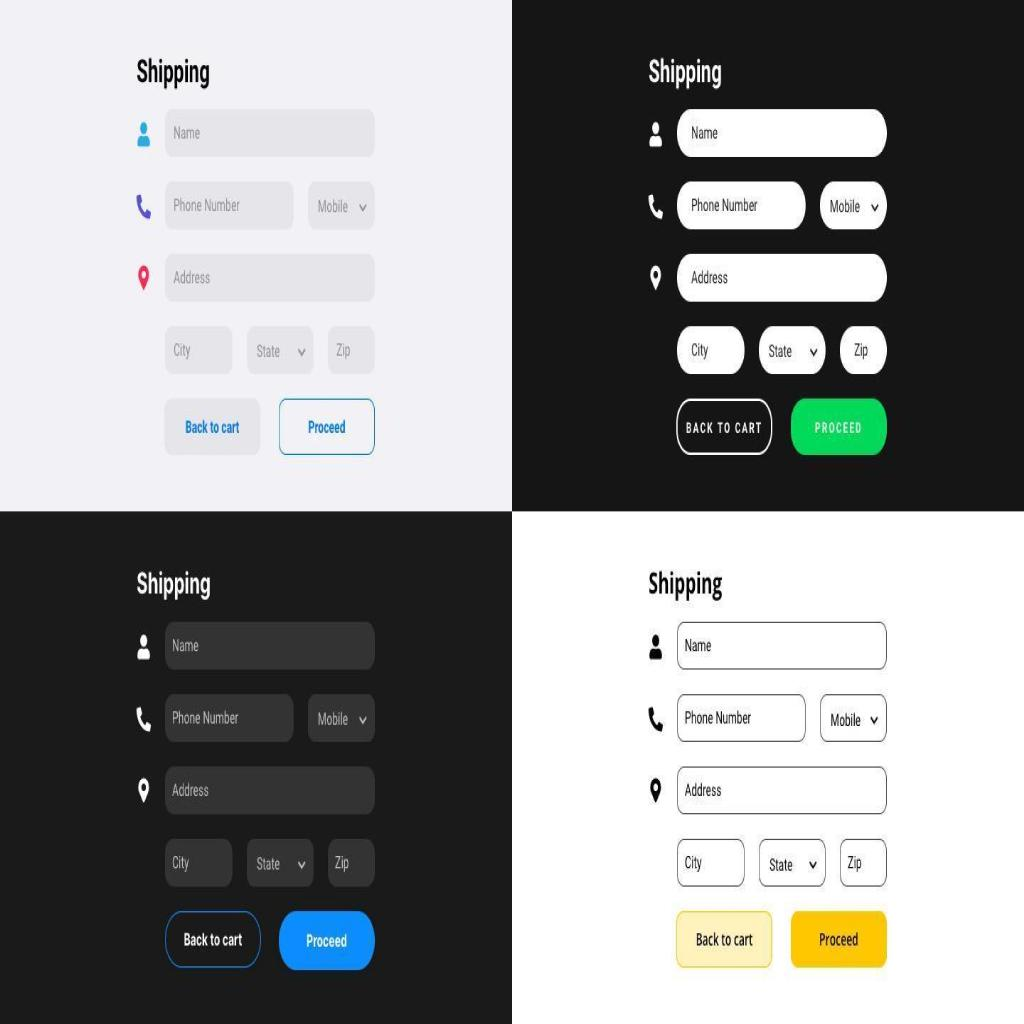button: (165, 396, 262, 458), (279, 396, 376, 458), (278, 911, 378, 970), (676, 910, 773, 969), (791, 910, 886, 969), (678, 399, 772, 456), (792, 400, 888, 455), (165, 912, 261, 966)
dropdown: (309, 179, 374, 232), (820, 692, 886, 744), (758, 326, 826, 375), (246, 326, 314, 374), (758, 838, 827, 884), (310, 690, 372, 740), (820, 183, 888, 228), (249, 839, 315, 885)
icon: (135, 188, 154, 227), (135, 118, 154, 154), (134, 260, 152, 292), (136, 630, 152, 664), (647, 702, 664, 734), (134, 704, 152, 733), (648, 192, 664, 224), (650, 773, 664, 807), (648, 260, 660, 292), (648, 636, 662, 662), (137, 778, 148, 804), (649, 122, 662, 144)
input: (166, 763, 378, 820), (161, 250, 374, 306), (676, 618, 886, 671), (674, 253, 888, 305), (165, 110, 374, 162), (678, 765, 886, 816), (677, 109, 890, 157), (168, 624, 372, 673), (165, 694, 293, 746), (161, 179, 294, 229), (677, 183, 806, 232), (677, 695, 806, 741), (673, 326, 746, 375), (165, 324, 232, 374), (165, 839, 234, 885), (680, 838, 740, 883), (838, 326, 886, 382), (836, 837, 888, 888), (327, 330, 374, 379), (327, 838, 376, 884)
label: (134, 560, 216, 606), (641, 52, 727, 93), (641, 563, 721, 606), (132, 54, 214, 88)
